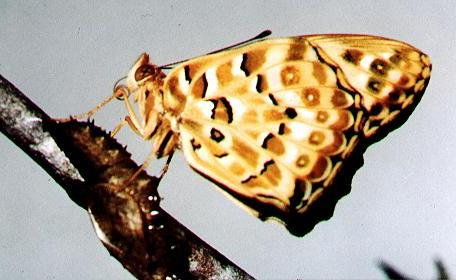Argyreus hyperbius: (54, 24, 433, 238)
butterfly: (56, 26, 435, 240)
